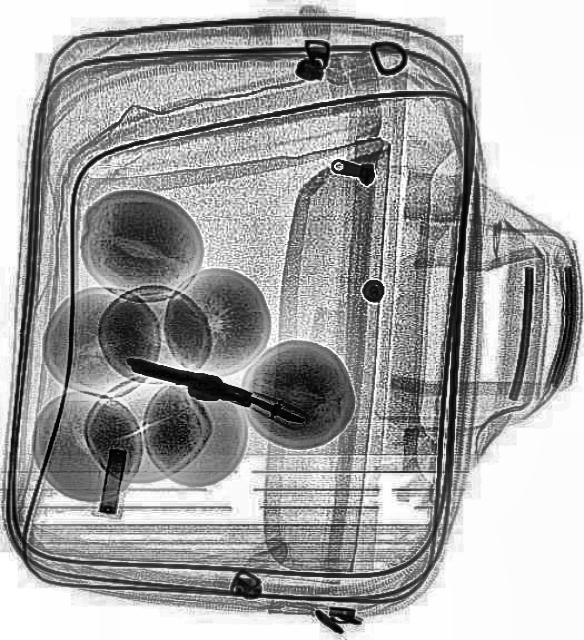Gun: (122, 345, 310, 433)
